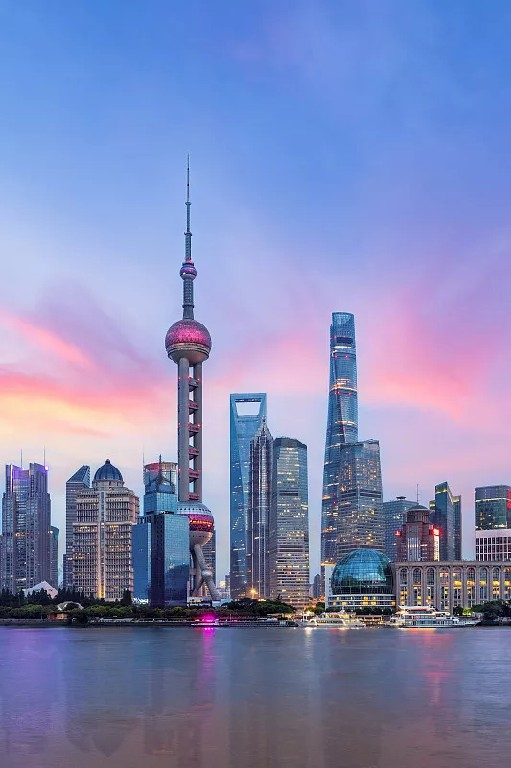Oriental: (164, 154, 219, 599)
